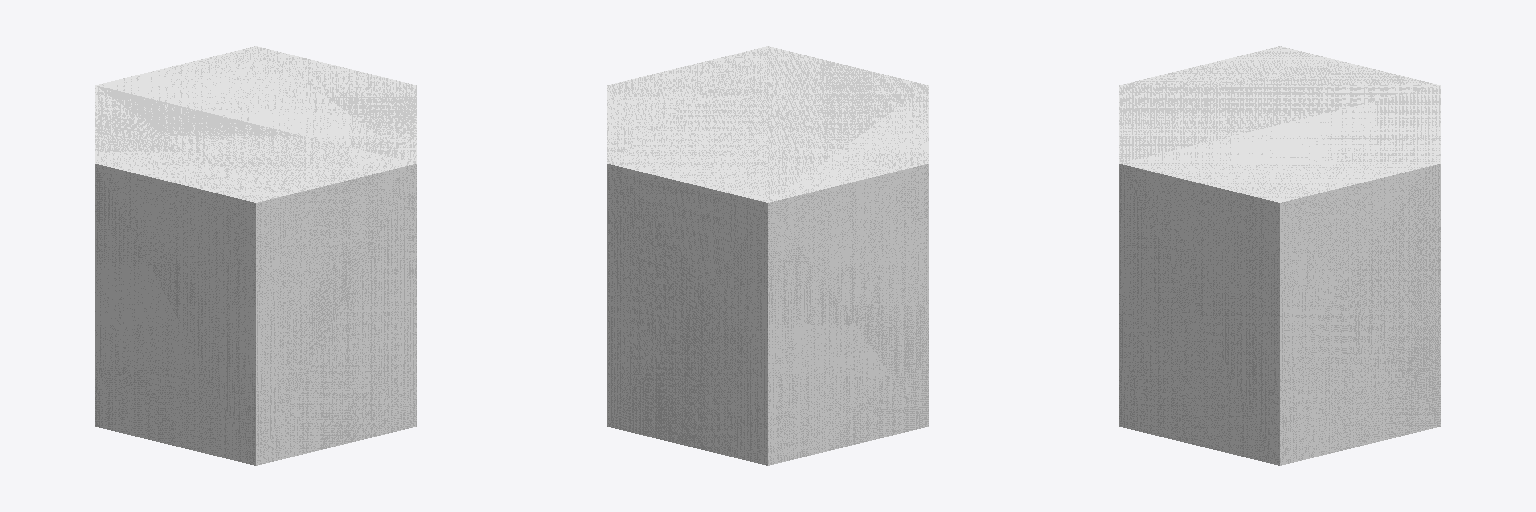
Rendered from WashBottle_Liquid.obj.
3 views of the same model, side by side, from view 1: azimuth 30°, elevation 25°; view 2: azimuth 150°, elevation 25°; view 3: azimuth 270°, elevation 25° (orthographic).
Visible parts, largest first — view 1: Mesh1 Model; view 2: Mesh1 Model; view 3: Mesh1 Model.
Part boxes in pixels (x1,y1,x2,y2): Mesh1 Model: (95, 46, 416, 465); Mesh1 Model: (607, 46, 928, 465); Mesh1 Model: (1119, 46, 1440, 465).
Bounding box in the file's own units: 0.0767 × 0.06 × 0.0664.